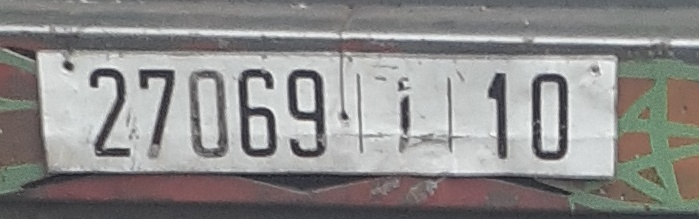0: (528, 68, 574, 166), (187, 66, 229, 158)
1: (475, 64, 517, 164)
2: (86, 61, 134, 161)
6: (236, 64, 278, 160)
7: (136, 63, 180, 160)
9: (284, 62, 333, 164)
a: (384, 64, 425, 160)
